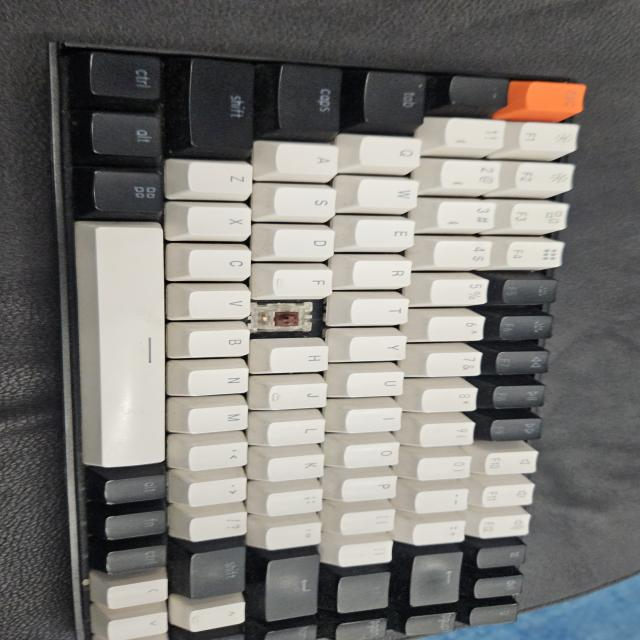C: (252, 303, 319, 335)
